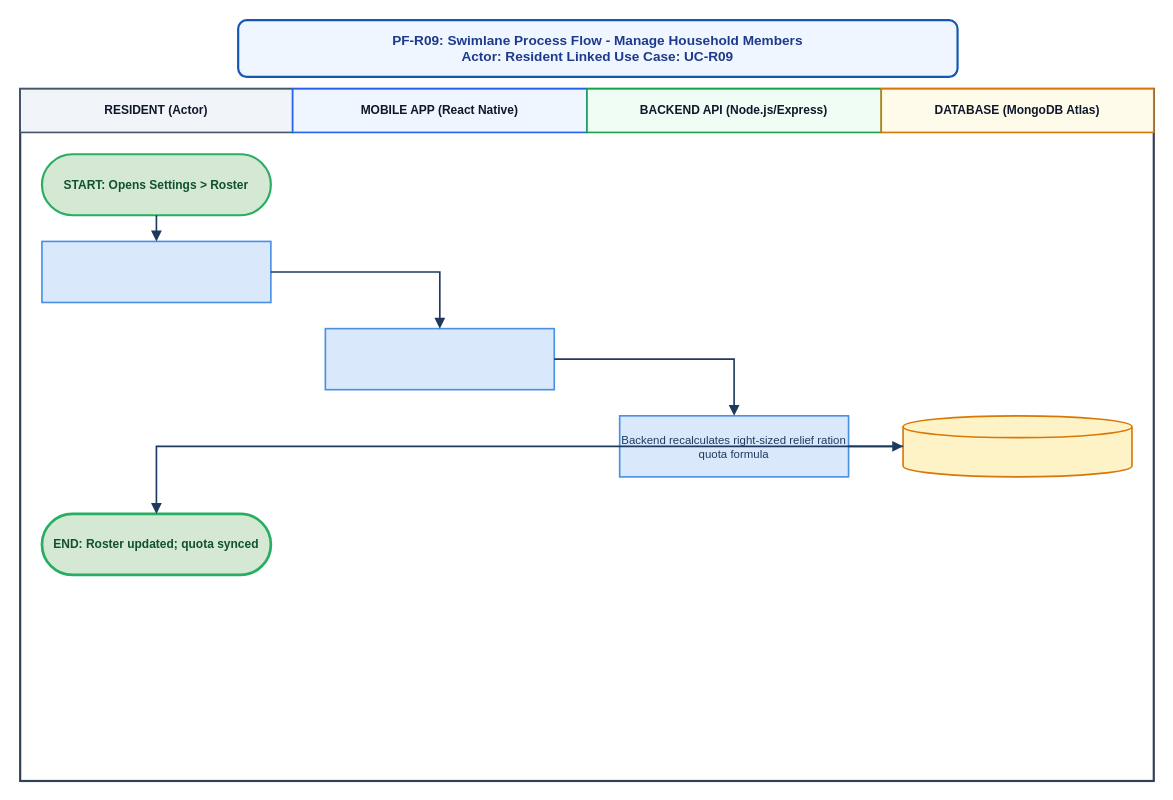
The diagram is 1173 pixels wide and 800 high, and some of its shapes have lost their labels. Each missing label, with the centre of its shape:
"Adds/edits family member details (Name, Age, Vulnerability, PWD)" belongs at [156,271].
"App sends PUT /api/households/me/members with updated roster" belongs at [439,358].
"MongoDB: Updates Household.members & computed quota in database" belongs at [1017,446].
